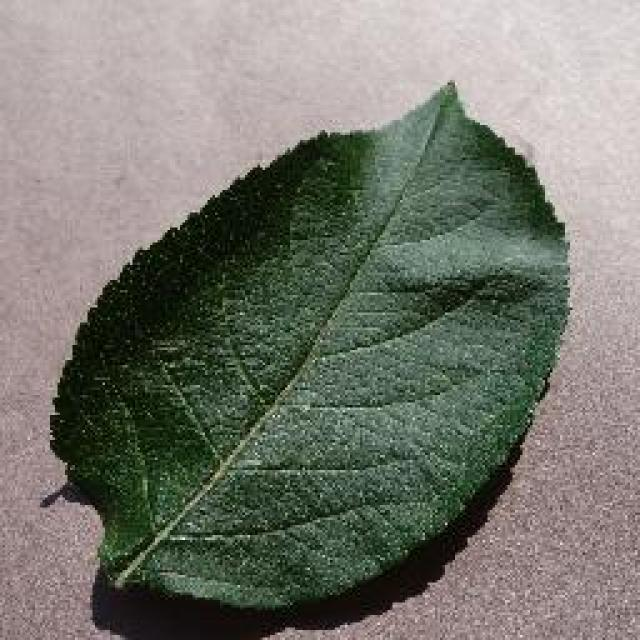apple healthy: (42, 77, 572, 615)
